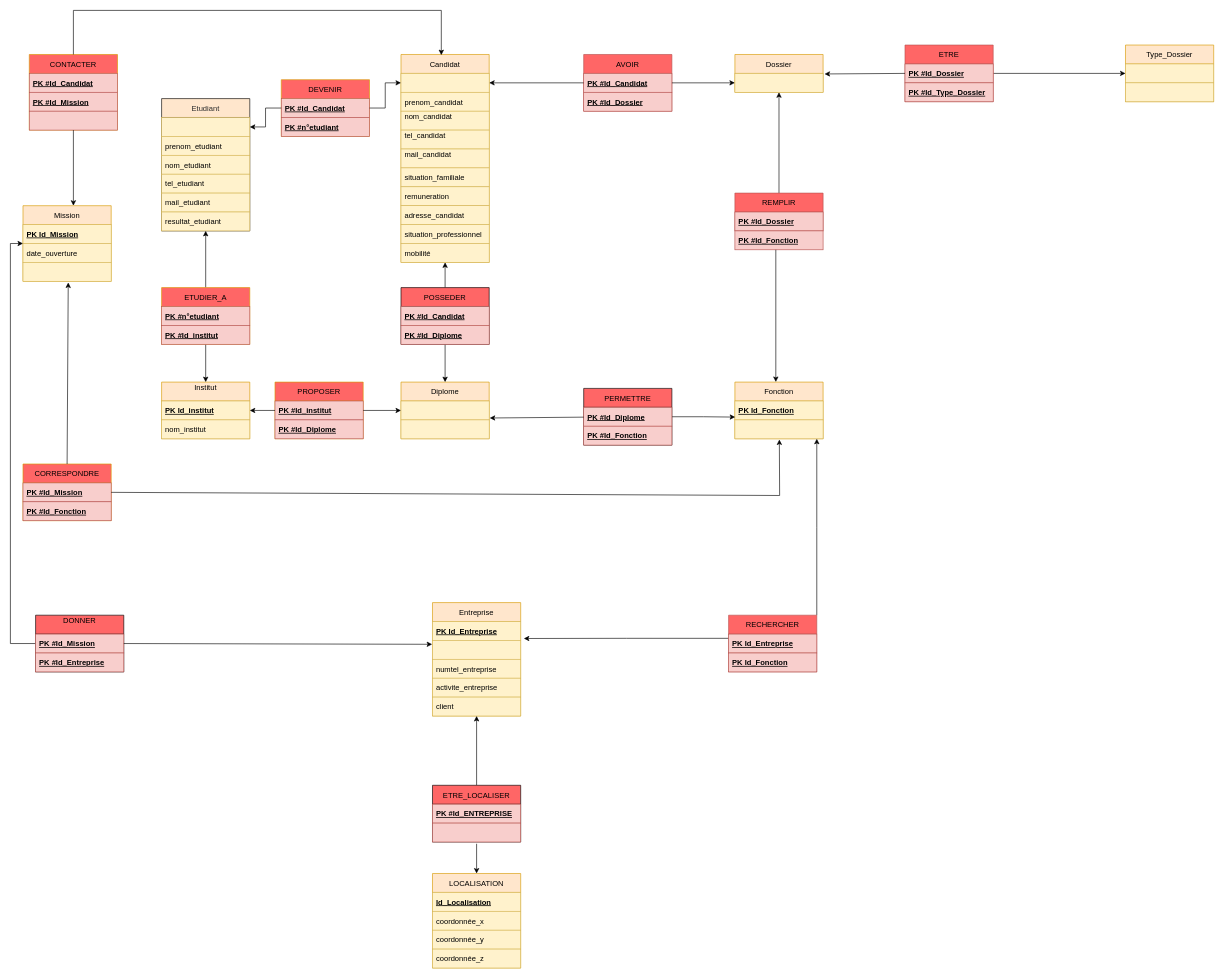
This 1224x978 diagram has some shape labels left out. Here are the shapes that lost their labels. From the top down, the centre of each, then its label:
[444,82]: PK Id_Candidat
[778,82]: Id_Dossier
[1169,73]: Id_Type_Dossier
[1169,92]: Nom_Type_Dossier
[73,120]: Date_Contacte
[205,126]: PK n°_etudiant
[66,271]: Remuneration_Mission
[444,410]: Id_Diplome
[444,429]: Nom_Diplome
[778,429]: nom_fonction
[476,649]: nom_entreprise
[476,832]: PK #Id_LOCALISATION
